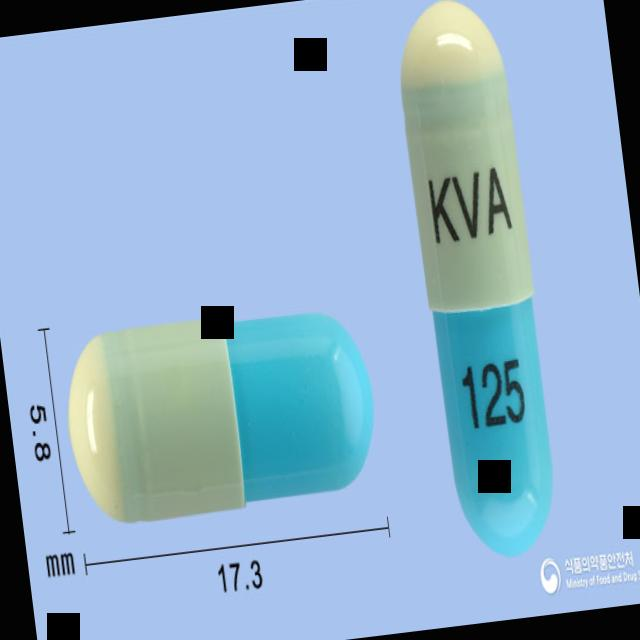Vancozin Cap: (388, 0, 567, 561)
